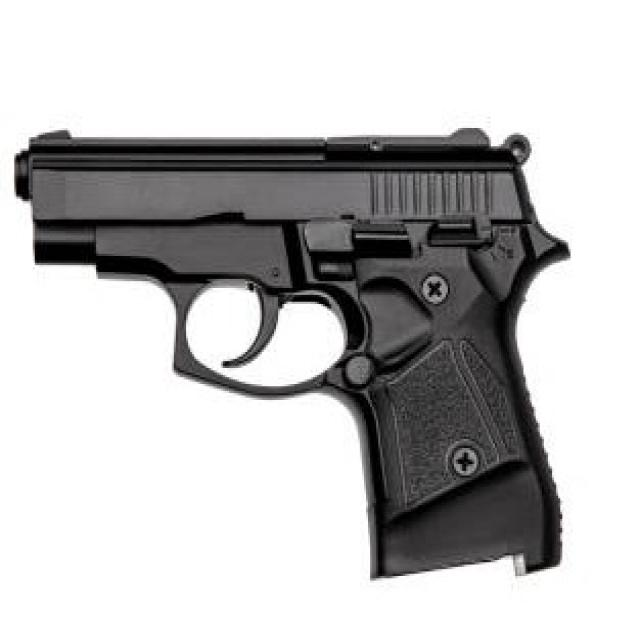pistol: (9, 122, 576, 591)
